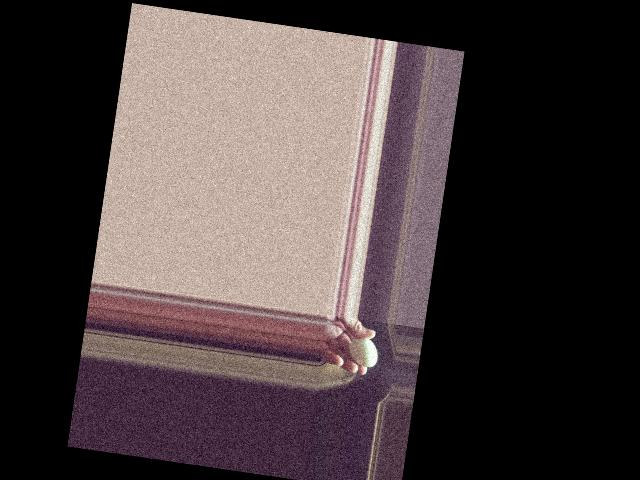egg: (346, 336, 379, 368)
